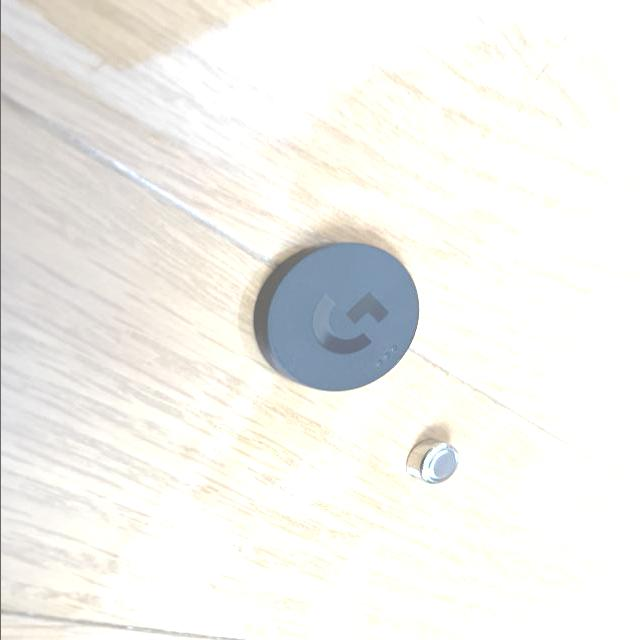COIN: (404, 440, 459, 484)
